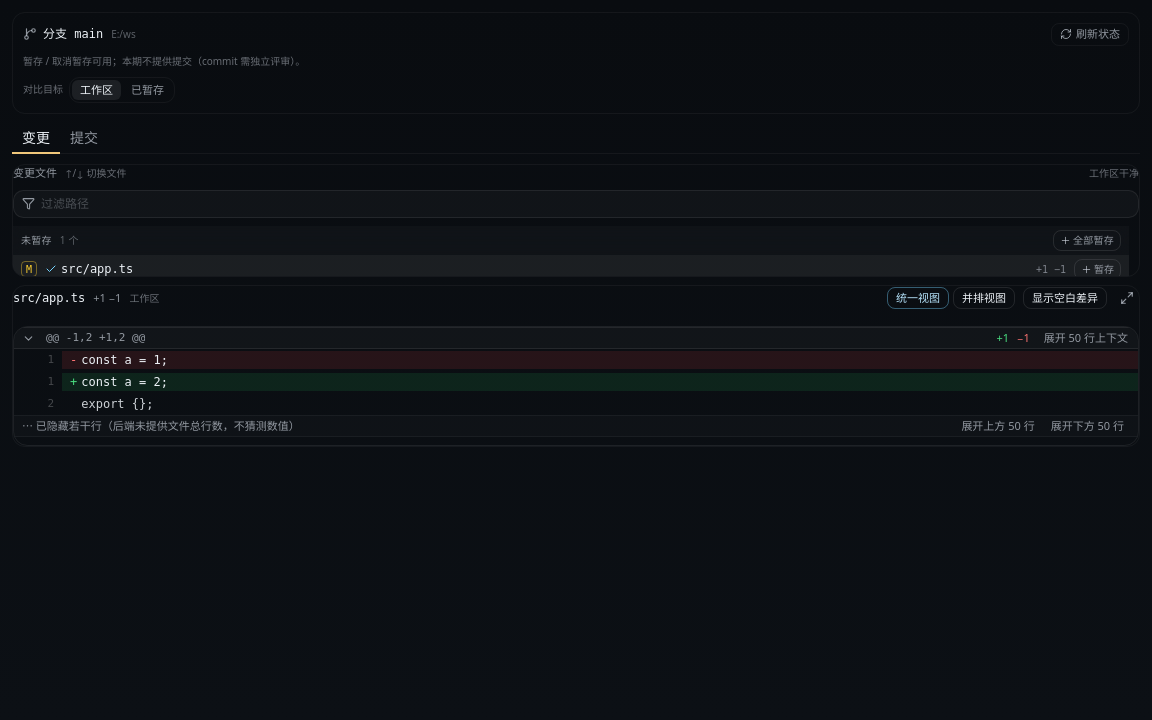
Test: GitSurface 放大 diff 视图 › 关闭按钮关掉放大面板
Click the button with test id "git-diff-expand" at {"x": 1127, "y": 298}, box [1115,286,1139,310]
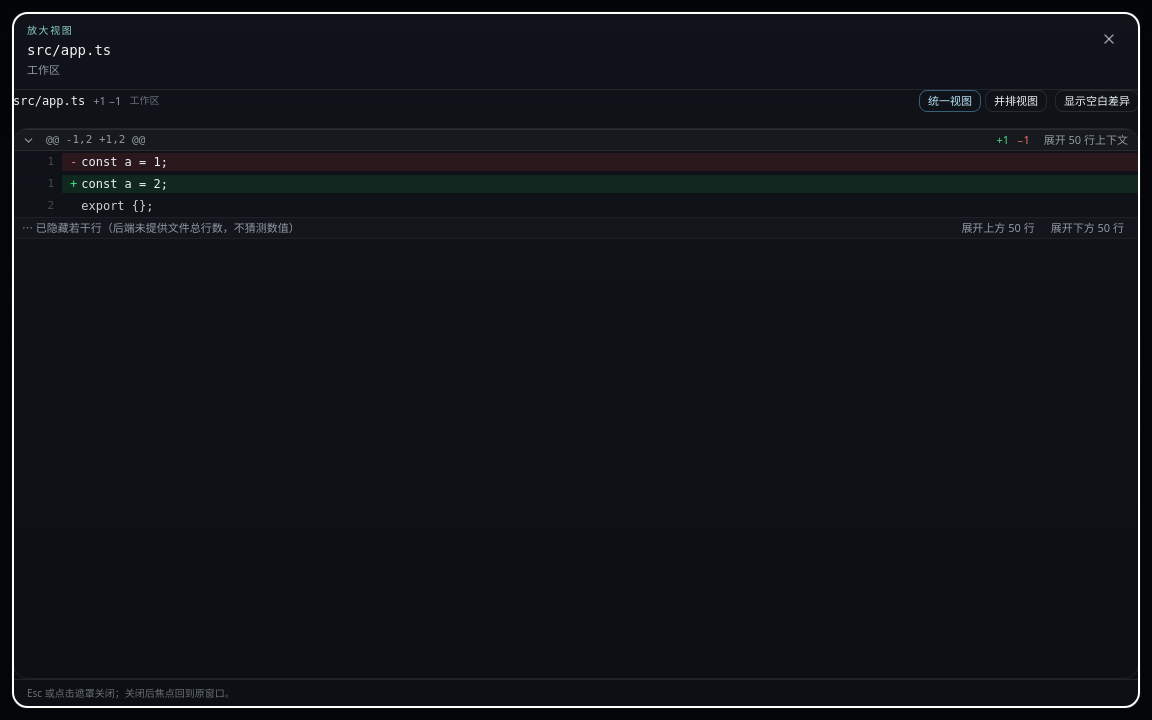
Click the button with test id "git-diff-expanded-close" at {"x": 1109, "y": 39}, box [1093,23,1125,55]
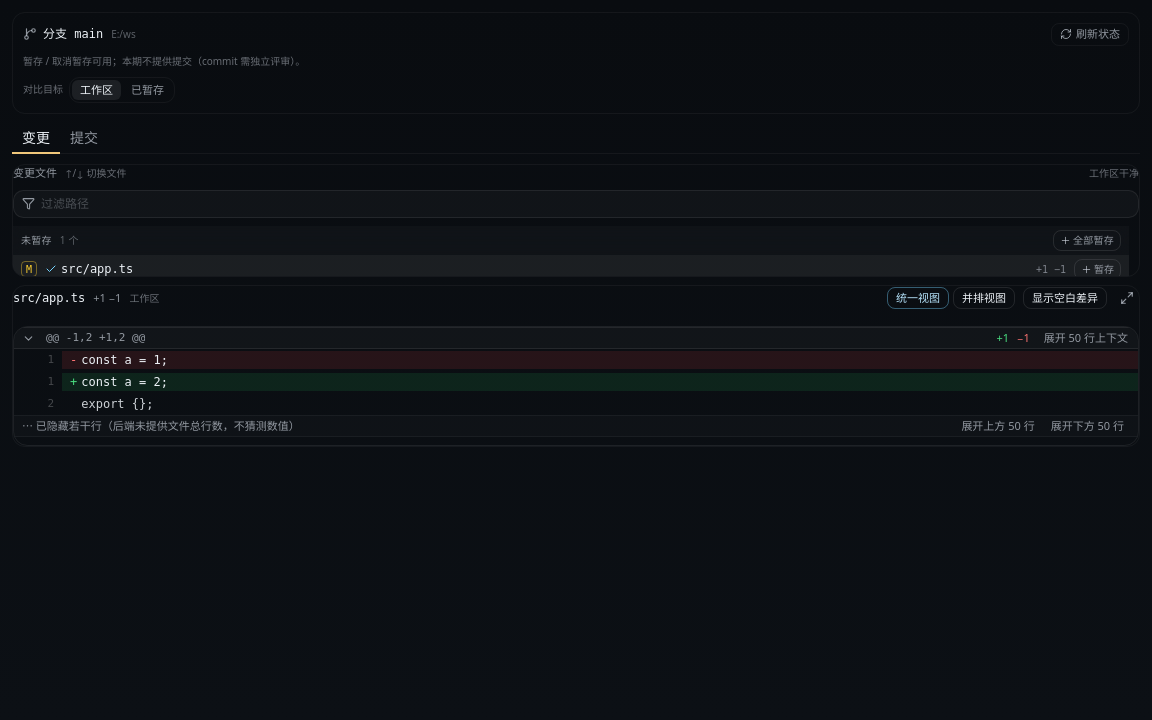
Check: the element with test id "git-diff-rows" is shown, box [13,326,1139,446]
Check: the dialog with test id "git-diff-expanded" is gone
